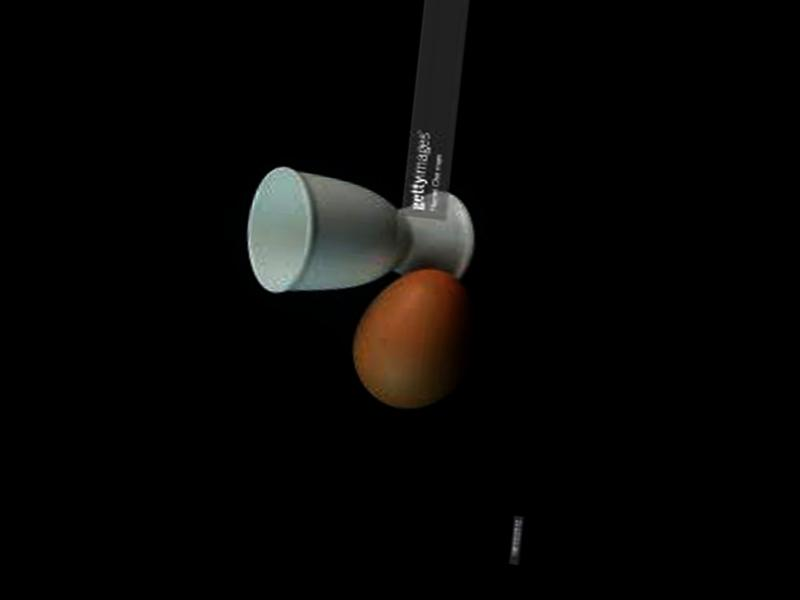Eggs: (346, 259, 475, 413)
